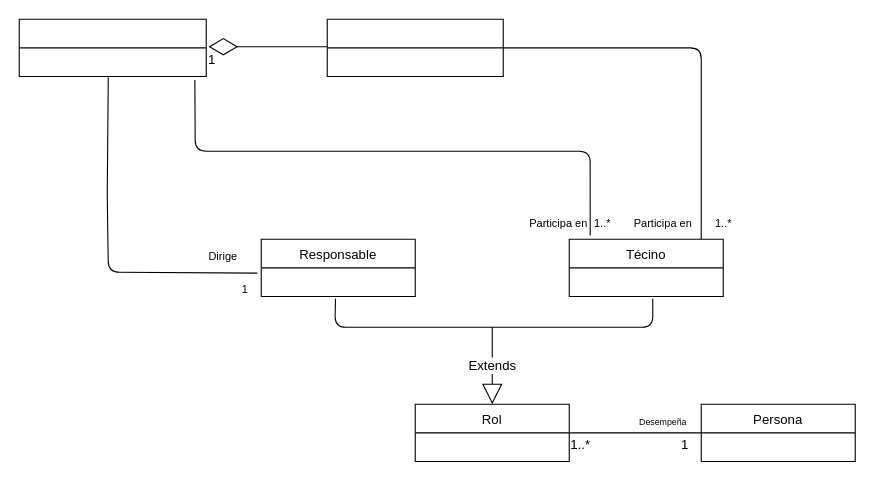
This 875x484 diagram has some shape labels left out. The centre of each missing label's shape, as x and y in pixels:
"Actuaciones concretas" belongs at pixel 414 47.
"Proyecto aequeológico" belongs at pixel 112 47.
